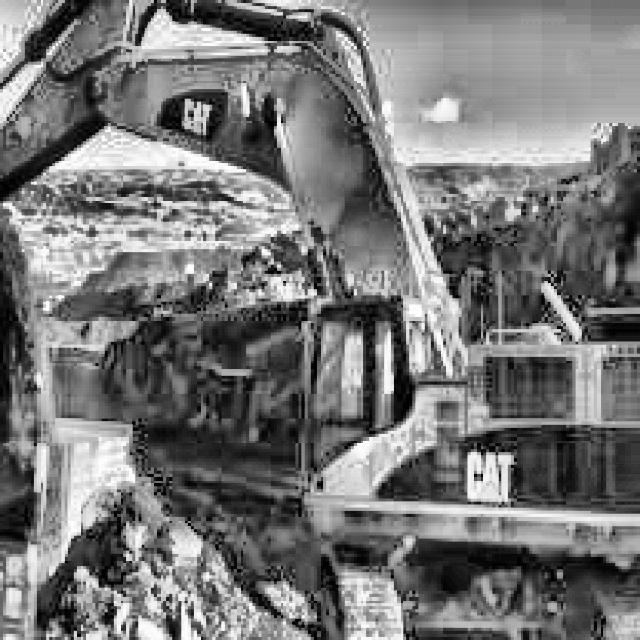dump_truck: (0, 400, 142, 640)
excavator: (0, 0, 640, 640)
